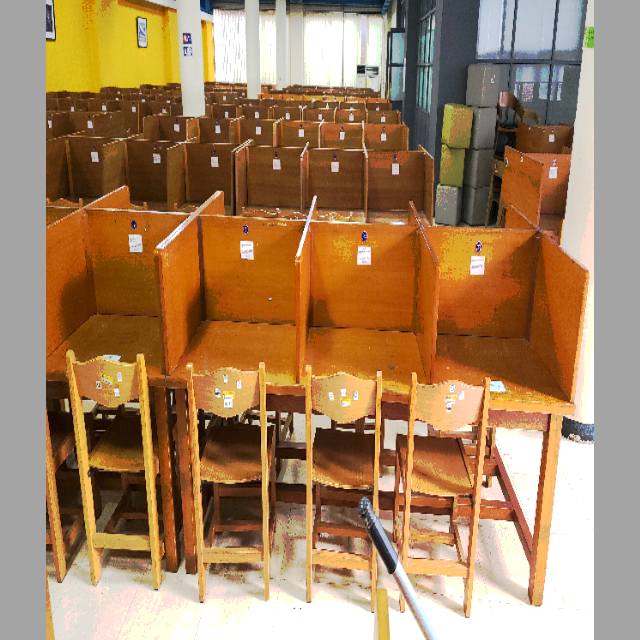empty: (445, 237, 584, 462), (306, 232, 435, 456), (176, 233, 297, 456)
